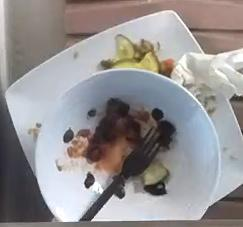salad: (67, 98, 176, 220)
vegetables: (100, 33, 172, 76)
